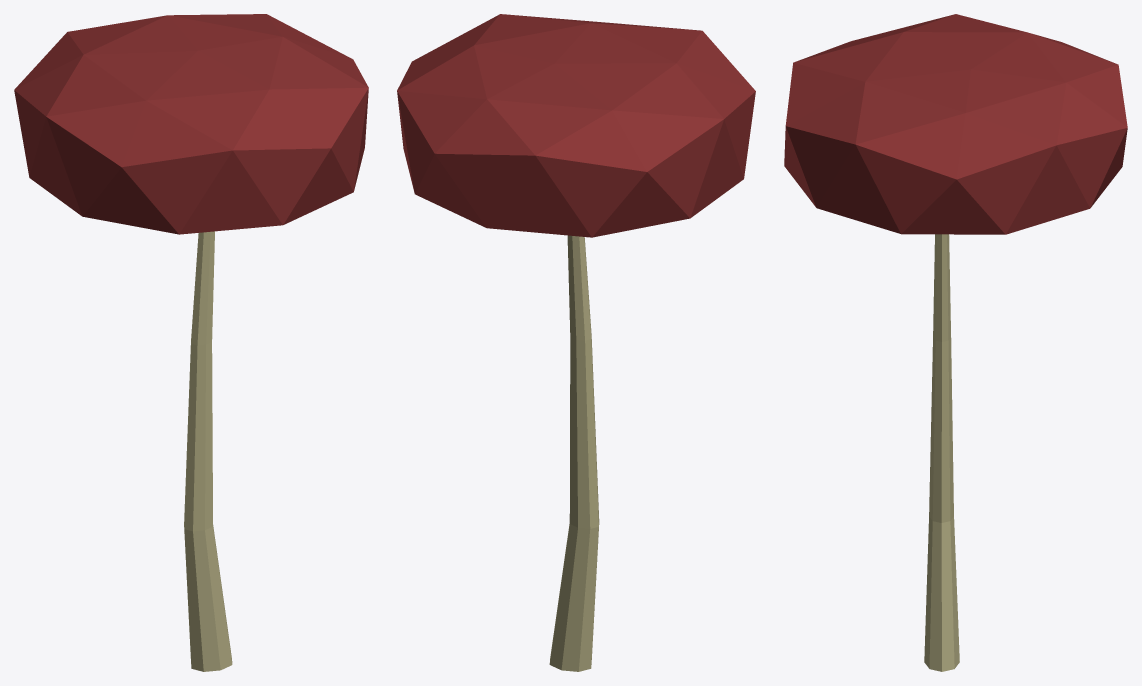
Rendered from flat_mushroom_tall_red.fbx.
The picture shows the model from 3 angles, left to right: view 1: azimuth 30°, elevation 25°; view 2: azimuth 150°, elevation 25°; view 3: azimuth 270°, elevation 25°; orthographic projection. The views are drawn at different scales.
Parts seen in each view (by area): view 1: flat_mushroom_tall_red; view 2: flat_mushroom_tall_red; view 3: flat_mushroom_tall_red.
Boxes of the visible parts, x1,y1,x2,y2 form: flat_mushroom_tall_red: [14, 14, 368, 671]; flat_mushroom_tall_red: [397, 14, 755, 671]; flat_mushroom_tall_red: [784, 14, 1127, 671].
Size of the model in its own units: 61.03 by 114 by 59.95.
